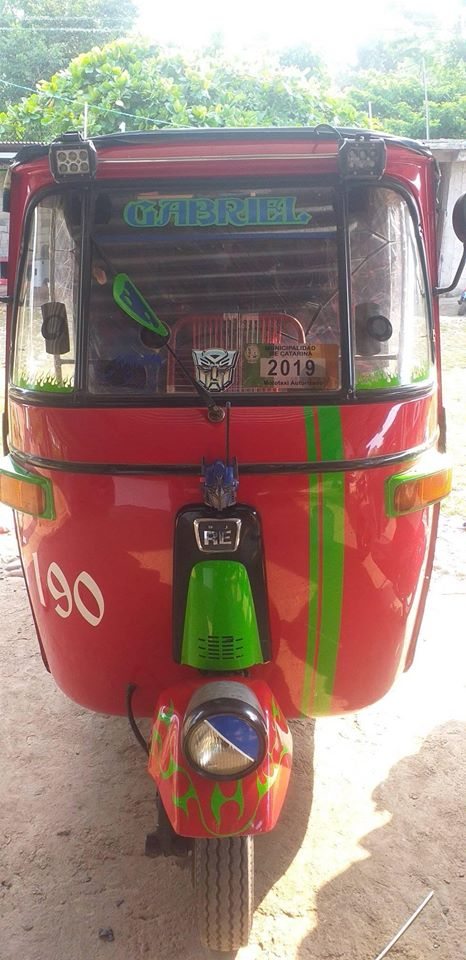mototaxi: (3, 122, 466, 915)
